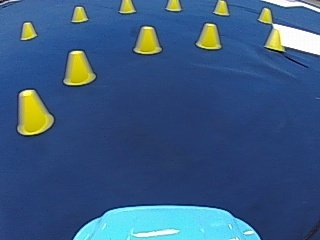cone: (15, 88, 53, 135), (62, 49, 95, 85), (133, 25, 161, 54), (195, 22, 221, 49), (264, 26, 282, 49), (19, 21, 36, 40), (70, 5, 87, 23), (257, 7, 272, 24), (213, 0, 229, 15), (119, 0, 135, 13), (165, 0, 181, 11)
